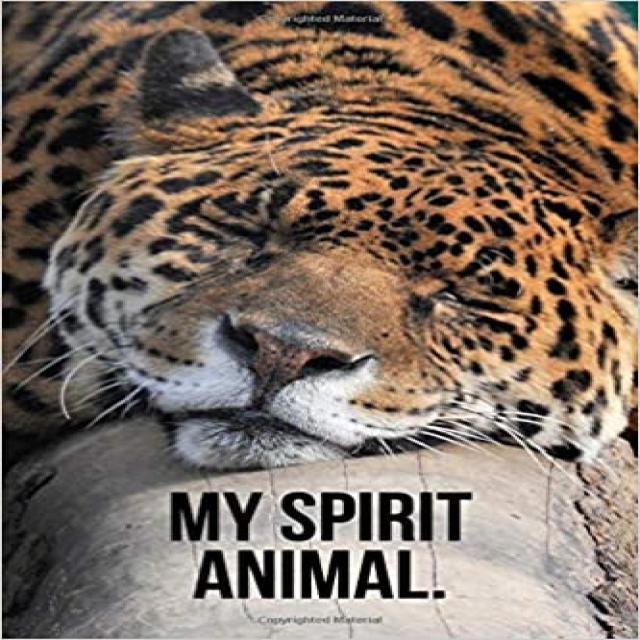Jaguar: (46, 23, 617, 467)
